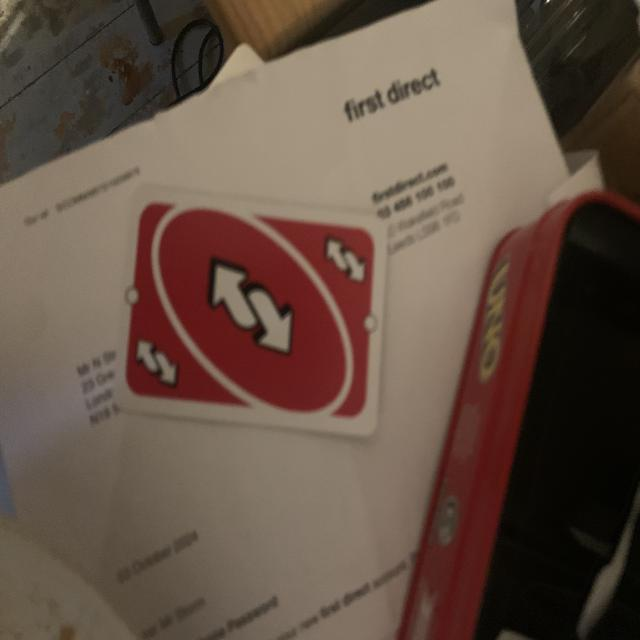lredrevers-20: (318, 228, 375, 284)
